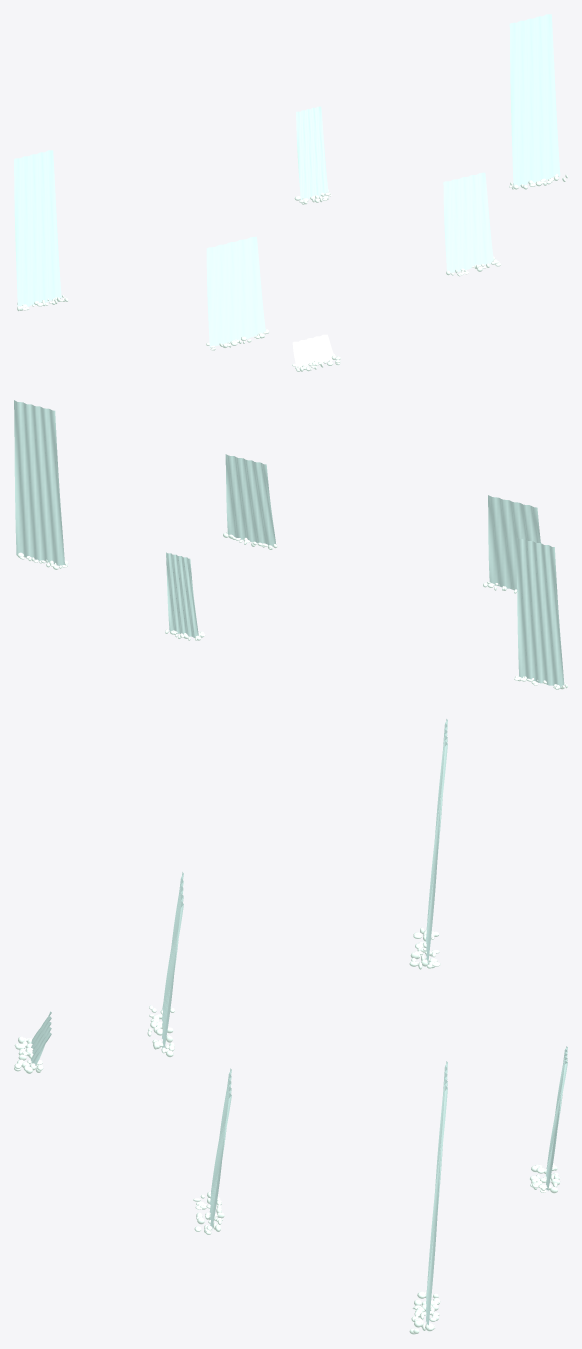
The model's file is SM_DBA_Sanctuary_Waterfalls.fbx.
The picture shows the model from 3 angles, top to bottom: view 1: azimuth 30°, elevation 25°; view 2: azimuth 150°, elevation 25°; view 3: azimuth 270°, elevation 25°; orthographic projection. The views are drawn at different scales.
Visible parts, largest first — view 1: SM_DBA_Sanctuary_Waterfalls; view 2: SM_DBA_Sanctuary_Waterfalls; view 3: SM_DBA_Sanctuary_Waterfalls.
Part boxes in pixels (x1=…): SM_DBA_Sanctuary_Waterfalls: x1=14, y1=14, x2=567, y2=371; SM_DBA_Sanctuary_Waterfalls: x1=14, y1=400, x2=567, y2=689; SM_DBA_Sanctuary_Waterfalls: x1=14, y1=719, x2=567, y2=1334.
Size of the model in its own units: 3970 by 2308 by 1115.
